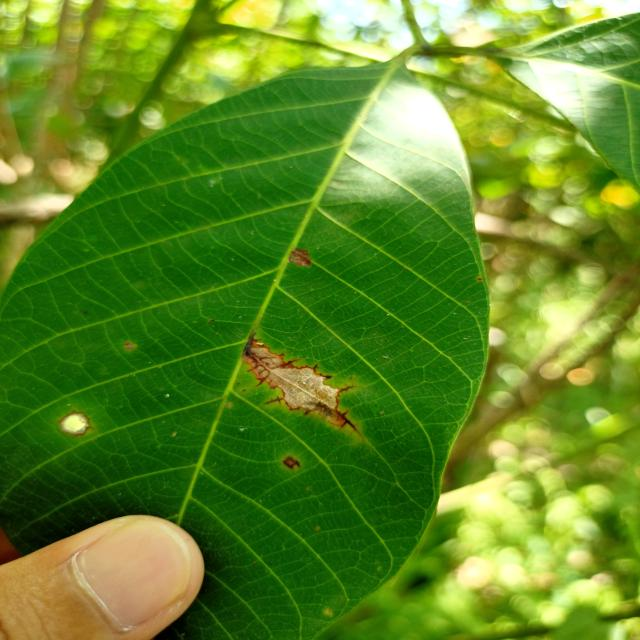Corynespora: (240, 331, 358, 434)
Leaf-Blight: (272, 368, 337, 410)
